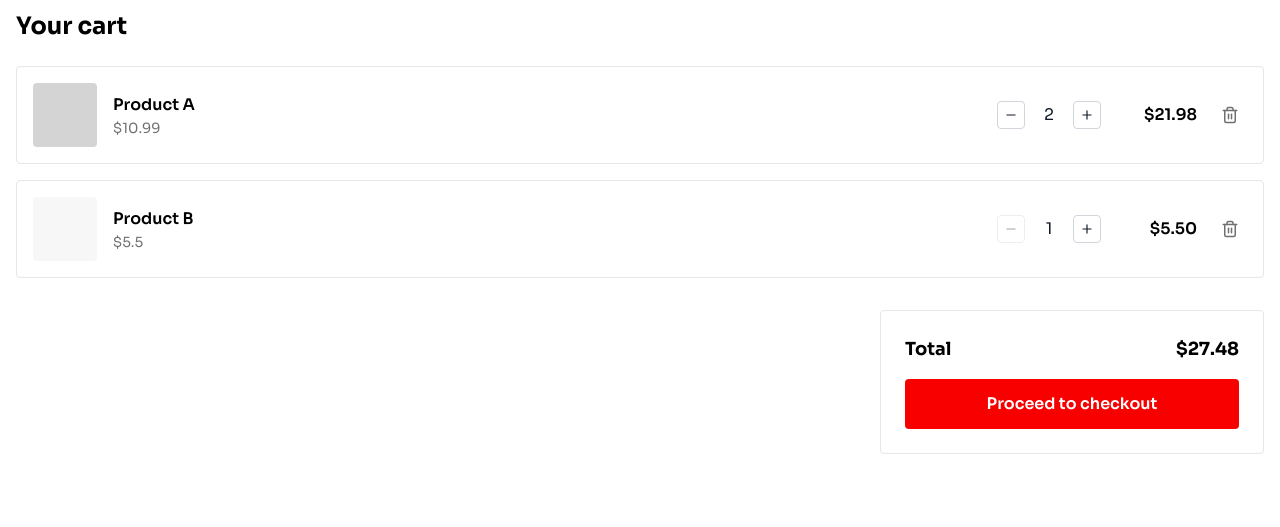
Scenario: Cart page › le bouton "Cancel" referme le panneau de confirmation sans appeler checkout
Click the button "Proceed to checkout". click: coordinates (1072, 404)
box: left=905, top=379, right=1239, bottom=429
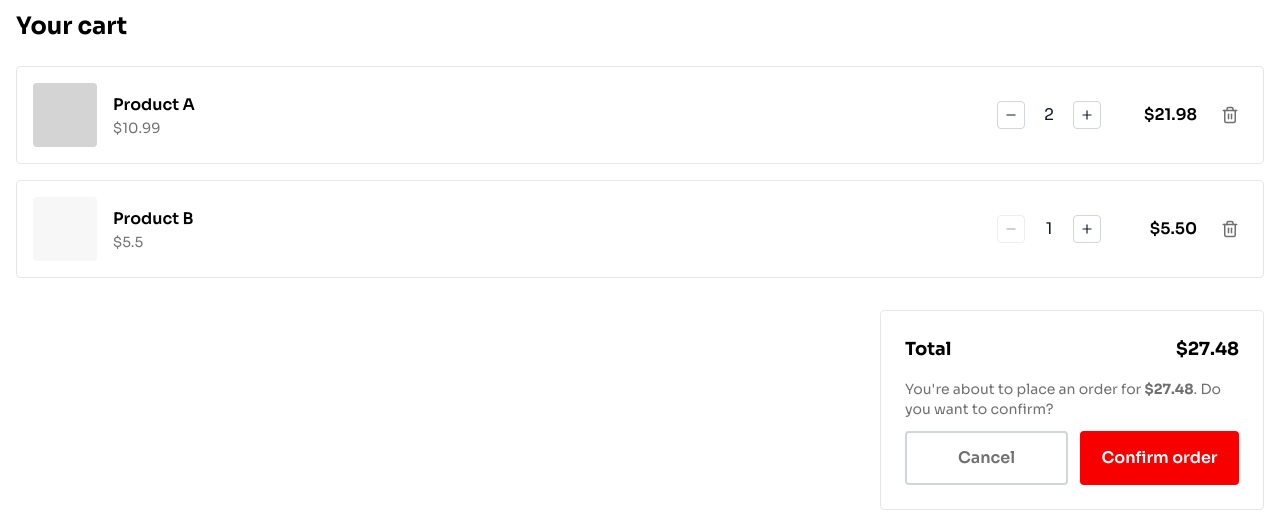
Click the button "Cancel". click: coordinates (986, 458)
box: left=905, top=431, right=1068, bottom=485
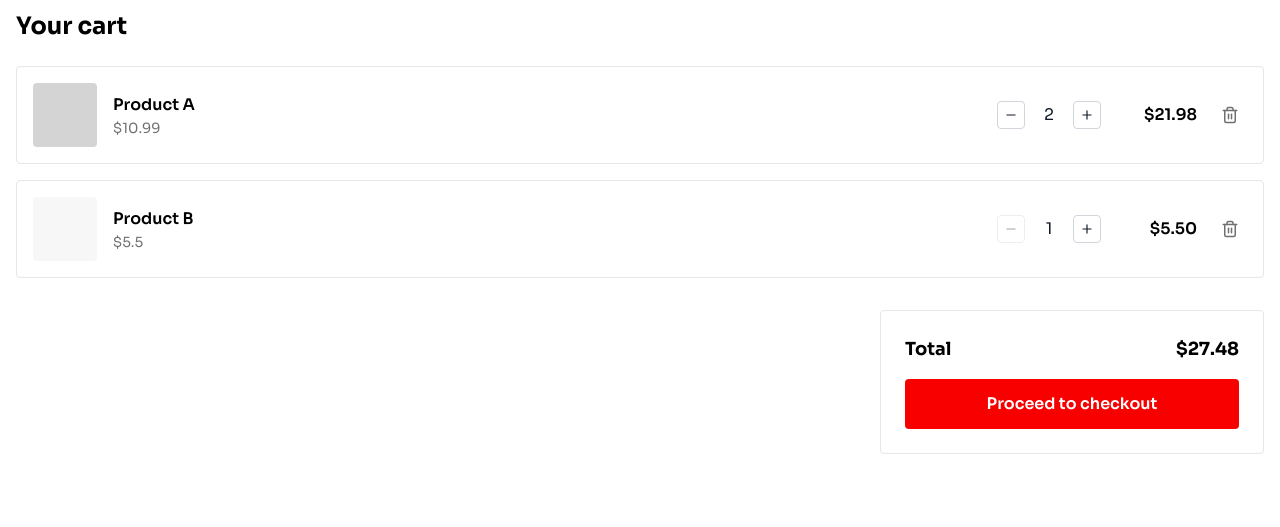
Expected: the text "You're about to place an order" is gone
Expected: the button "Proceed to checkout" is shown, left=905, top=379, right=1239, bottom=429
